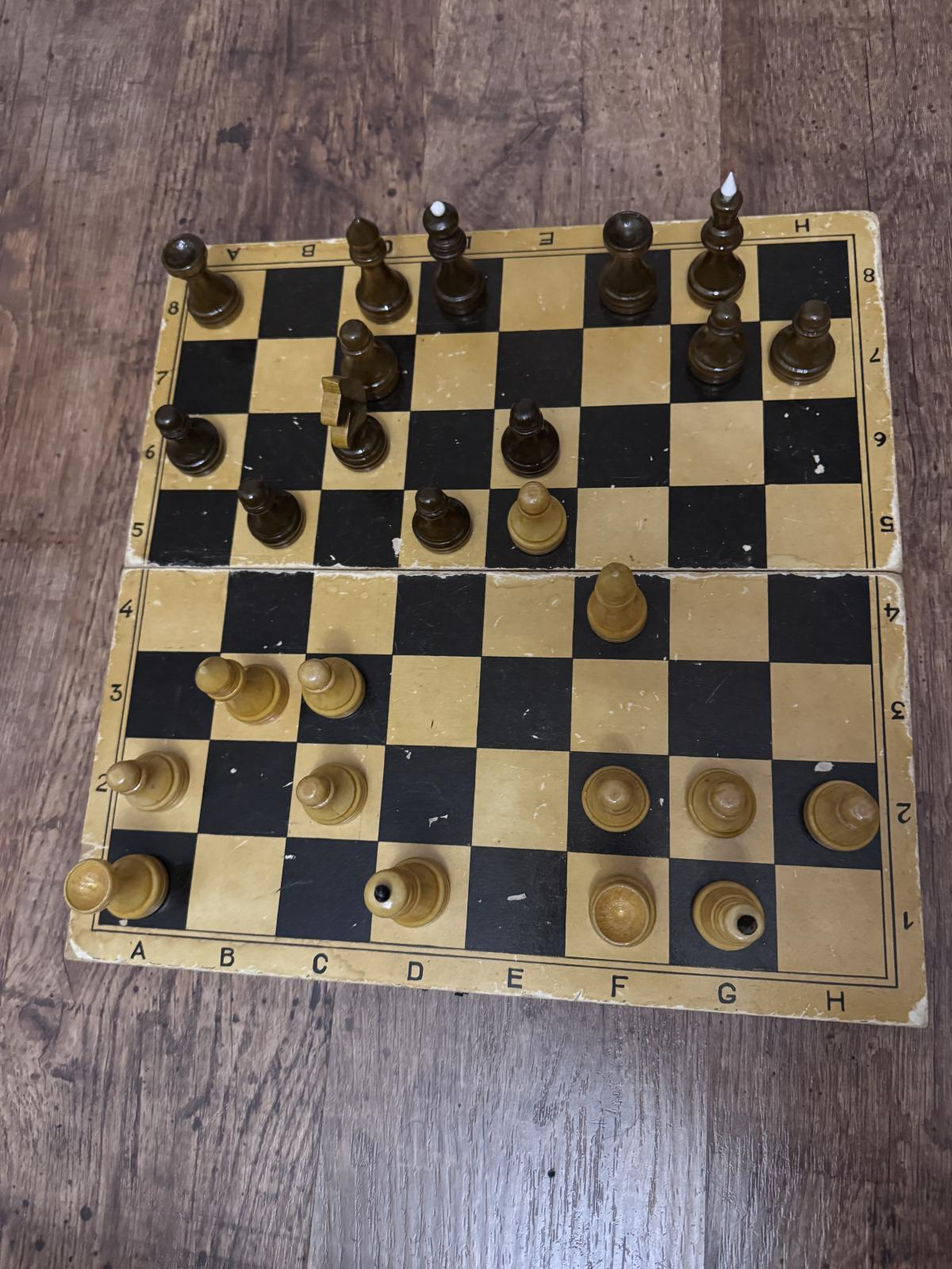Chess-Board: (99, 239, 887, 978)
